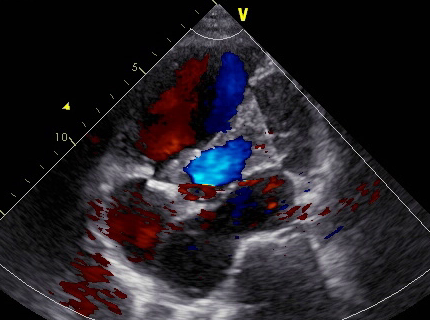PR: (241, 140, 317, 235)
